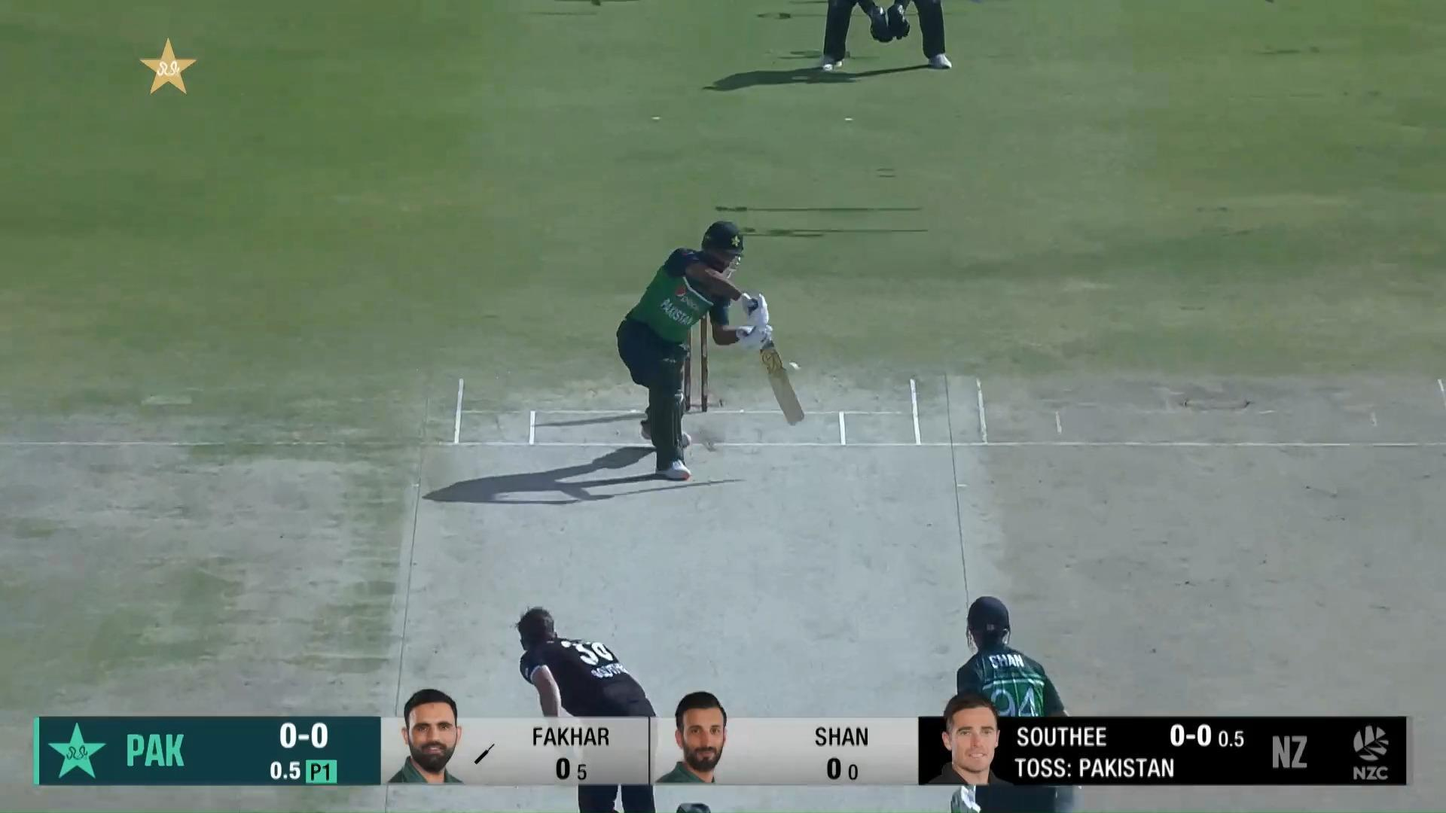BM 1: (615, 220, 805, 481)
BO: (515, 604, 664, 813)
